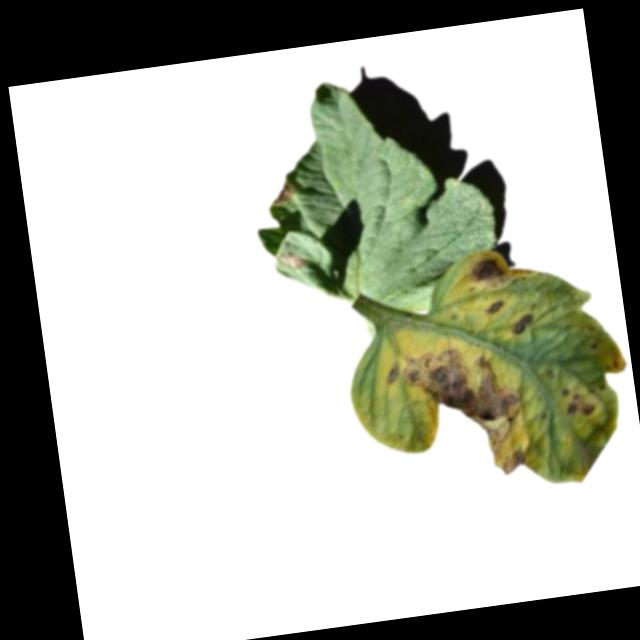Early_blight: (380, 333, 536, 489), (466, 253, 514, 287), (559, 383, 596, 418), (269, 179, 299, 206), (276, 247, 308, 270), (510, 308, 535, 334), (486, 293, 506, 313)
